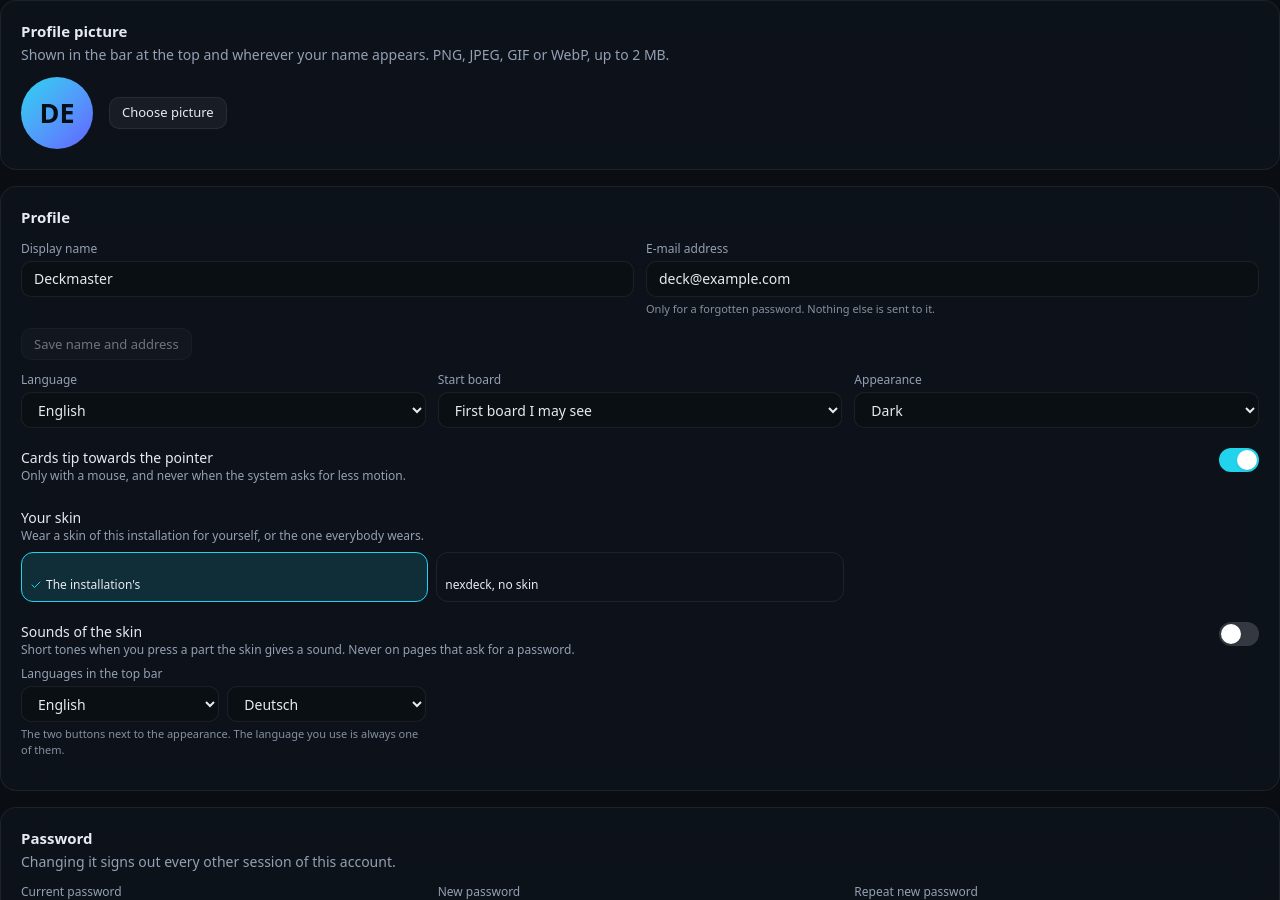
Test case: ProfileSettings › wakes up when the address is edited, not only the name
Type "x" into the field labelled "E-mail address". click: coordinates (952, 278)
box: [646,260,1259,296]
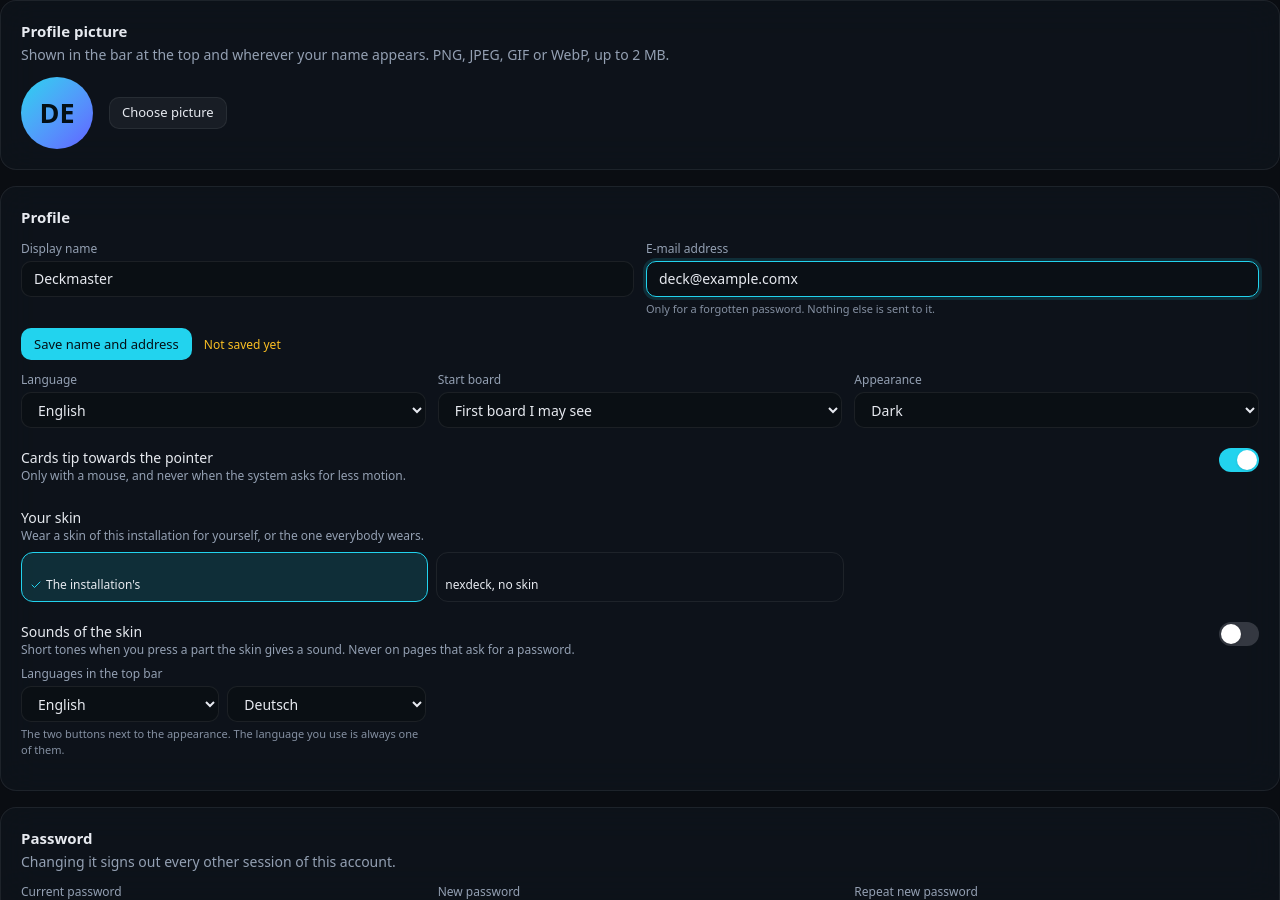
Expected: the button "Save name and address" is enabled, [21,328,192,360]
Expected: the text "Not saved yet" is shown, [204,336,281,353]
